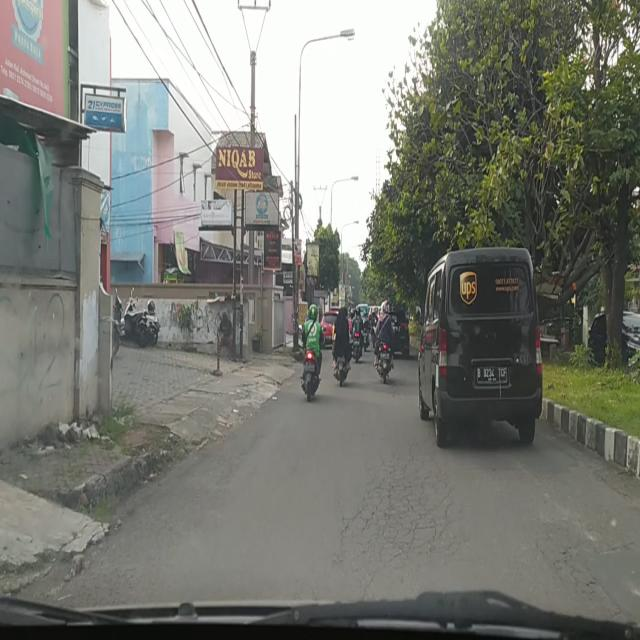Drain Hole: (338, 437, 454, 568)
